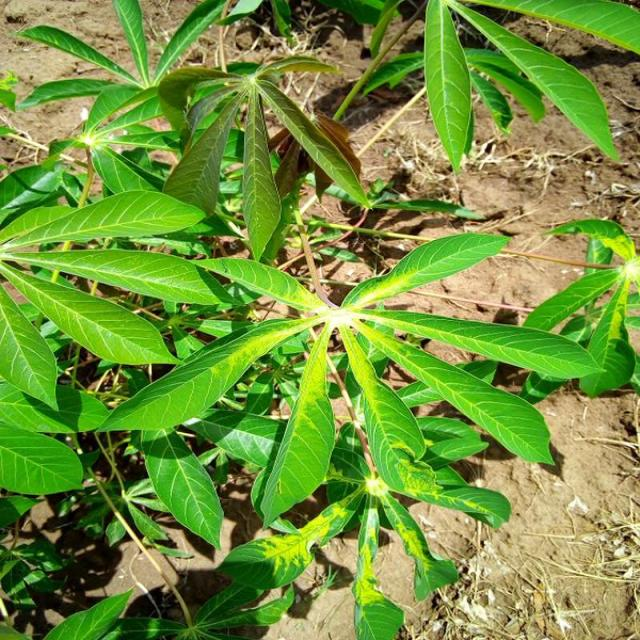Mosaico: (240, 254, 445, 410), (302, 457, 448, 601), (586, 203, 640, 372)
